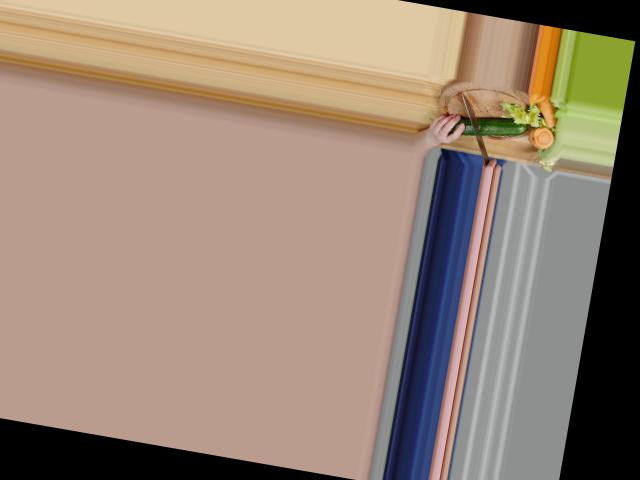cucumber: (449, 109, 529, 146)
